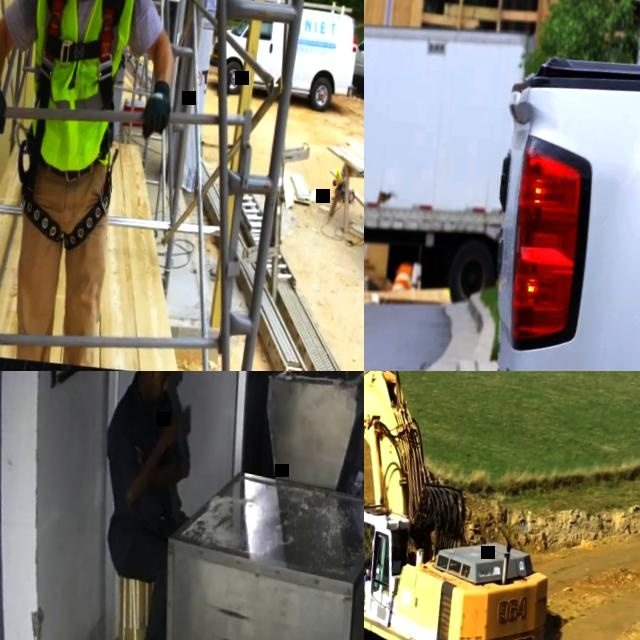NO-Mask: (145, 382, 164, 406)
NO-Safety Vest: (16, 0, 139, 170), (104, 393, 186, 525)
Person: (0, 0, 198, 371), (77, 371, 210, 640), (364, 558, 381, 602)
Safety Cone: (391, 262, 415, 295)
machinery: (364, 371, 580, 640)
vehicle: (377, 29, 640, 371)
